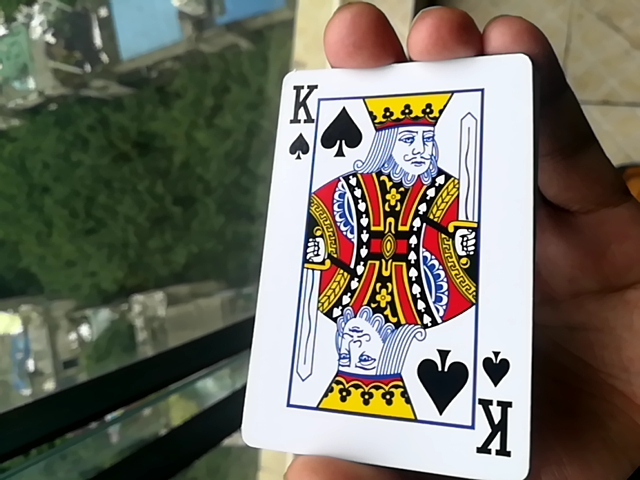ht k: (245, 59, 526, 480)
